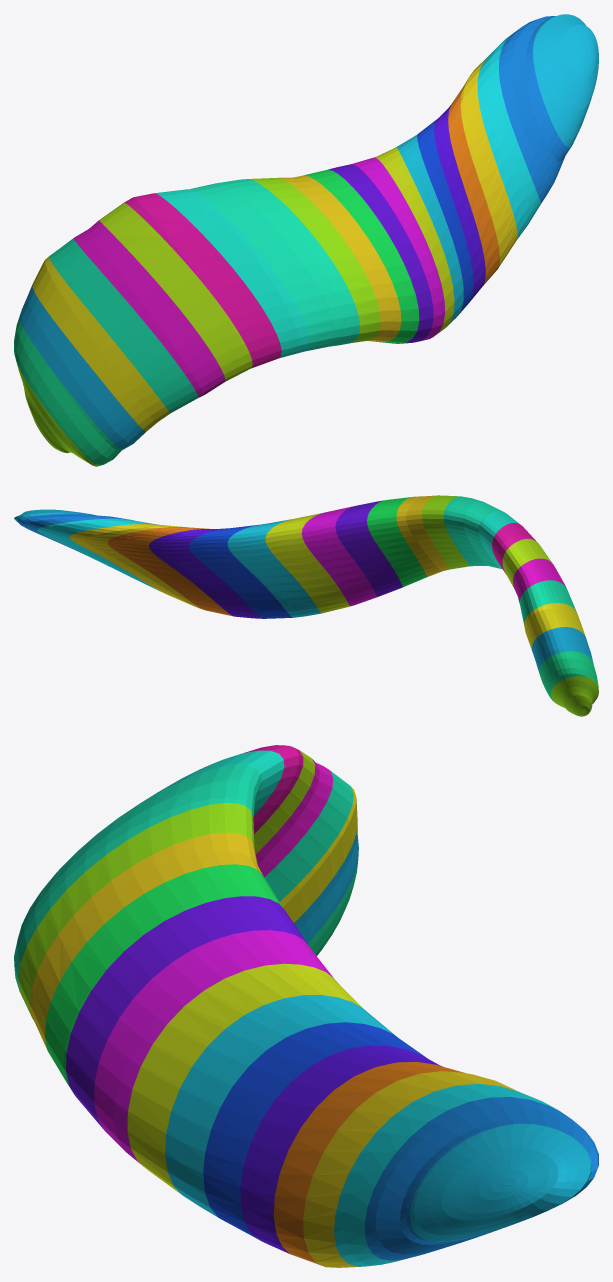
Rendered from pancreas-female-uf-v1.0.glb.
3 renders of one model, top to bottom at view 1: azimuth 30°, elevation 25°; view 2: azimuth 150°, elevation 25°; view 3: azimuth 270°, elevation 25°, orthographic. The views are drawn at different scales.
Parts seen in each view (by area): view 1: world; view 2: world; view 3: world.
Boxes of the visible parts, x1,y1,x2,y2 form: world: (14,14,598,466); world: (14,495,598,716); world: (14,745,598,1267).
Bounding box in the file's own units: 0.1571 × 0.0544 × 0.082.
